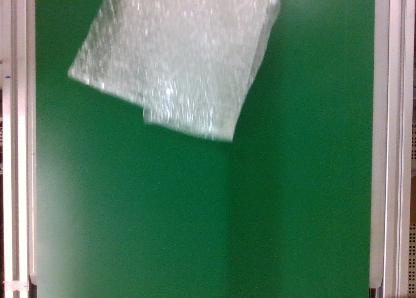Others: (67, 1, 281, 144)
